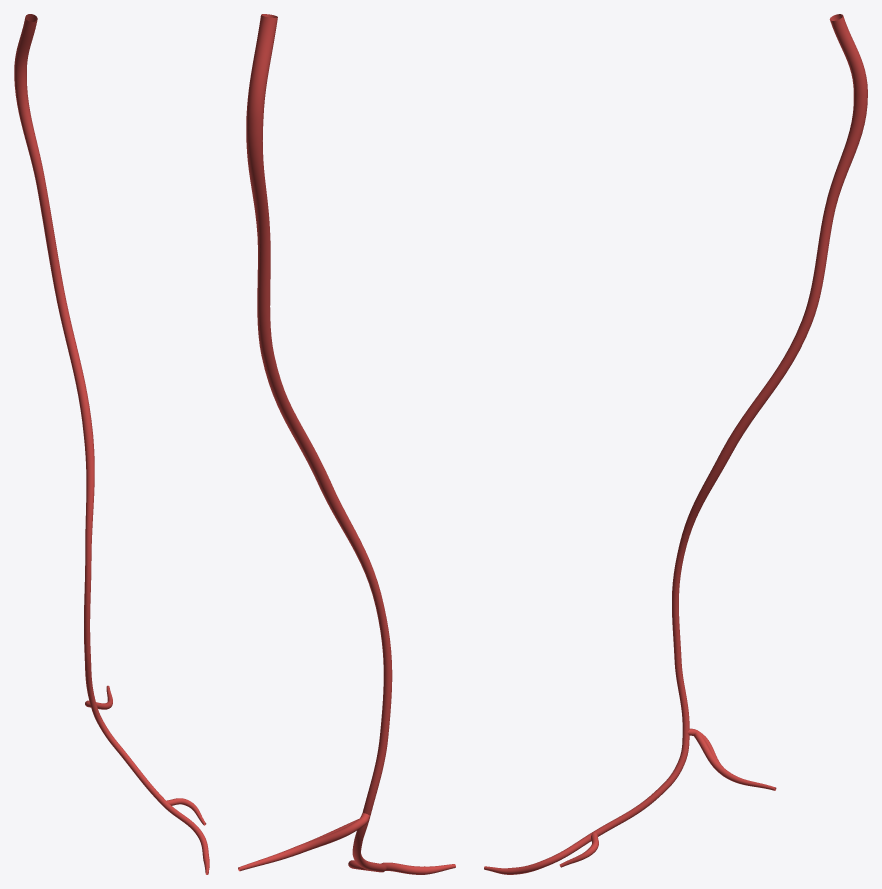
The picture shows the model from 3 angles, left to right: view 1: azimuth 30°, elevation 25°; view 2: azimuth 150°, elevation 25°; view 3: azimuth 270°, elevation 25°; orthographic projection. The views are drawn at different scales.
Visible parts, largest first — view 1: 右侧滑车上动脉; view 2: 右侧滑车上动脉; view 3: 右侧滑车上动脉.
Part boxes in pixels (x1,y1,x2,y2): 右侧滑车上动脉: (14,14,209,874); 右侧滑车上动脉: (238,14,455,874); 右侧滑车上动脉: (484,14,867,874).
Size of the model in its own units: 0.00774 by 0.0772 by 0.0318.
